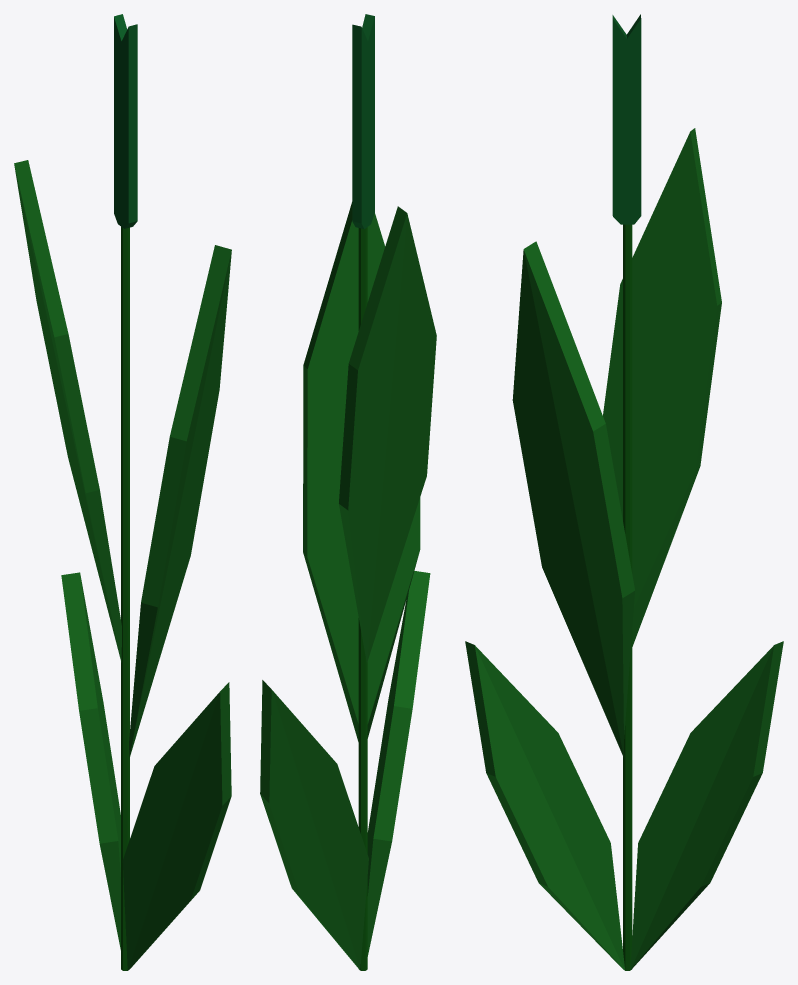
File: Trigo stage 2.fbx
The picture shows the model from 3 angles, left to right: view 1: azimuth 30°, elevation 25°; view 2: azimuth 150°, elevation 25°; view 3: azimuth 270°, elevation 25°; orthographic projection.
Visible parts, largest first — view 1: espiga; view 2: espiga; view 3: espiga.
Part boxes in pixels (bbox=[...]): espiga: bbox=[14, 14, 231, 970]; espiga: bbox=[260, 14, 436, 970]; espiga: bbox=[465, 14, 783, 970].
Bounding box in the file's own units: 26.37 × 155 × 46.87.
